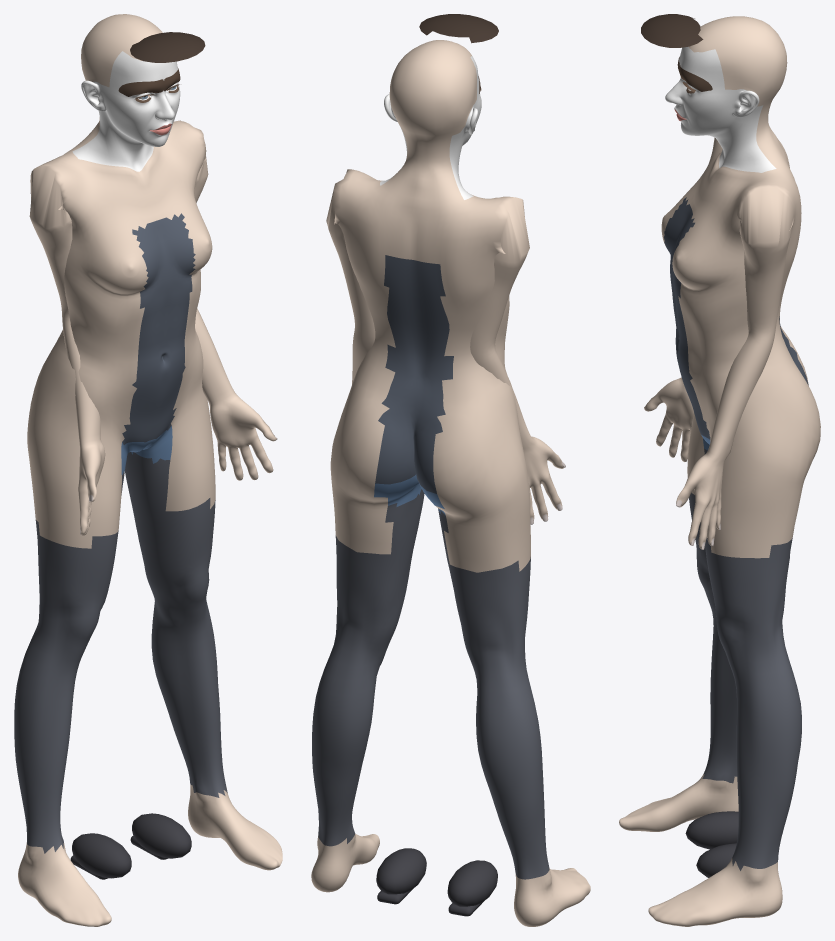
File: hm_ped_rae_v16.glb
3 views of the same model, side by side, from view 1: azimuth 30°, elevation 25°; view 2: azimuth 150°, elevation 25°; view 3: azimuth 270°, elevation 25° (orthographic).
Visible parts, largest first — view 1: hm_ped_rae; view 2: hm_ped_rae; view 3: hm_ped_rae.
Boxes of the visible parts, <box> form: hm_ped_rae: <box>14,14,282,926</box>; hm_ped_rae: <box>311,14,590,926</box>; hm_ped_rae: <box>619,14,820,926</box>.
Size of the model in its own units: 0.5111 by 1.72 by 0.3705.
